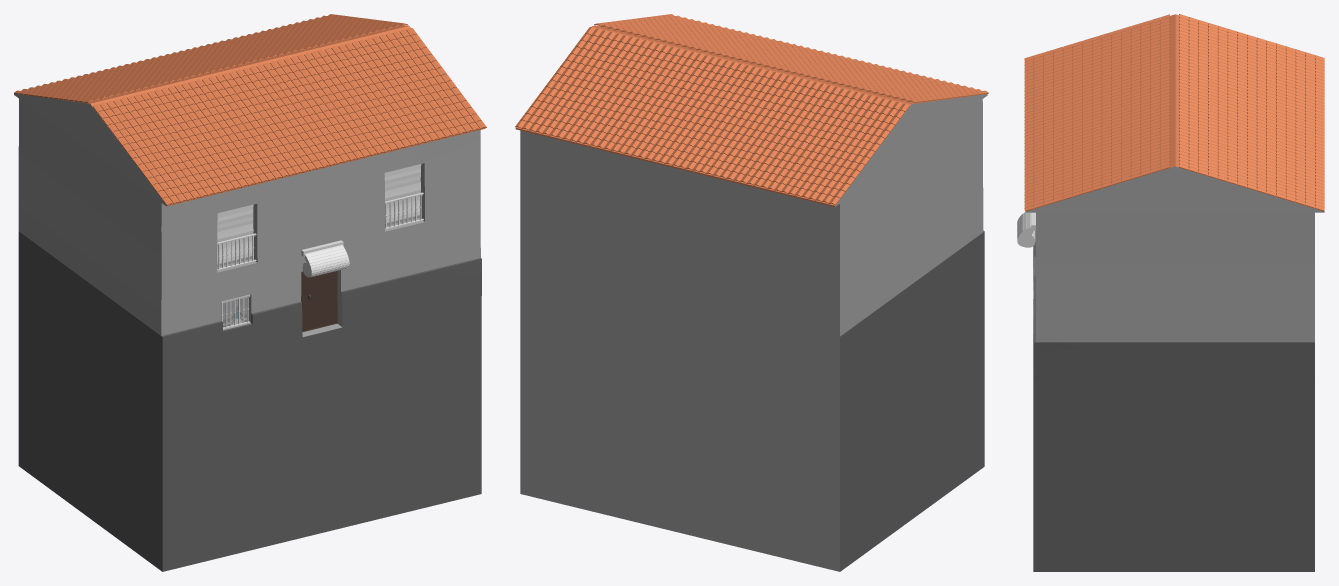
File: 8_Casa_Benarraba_Miguel_Cano.fbx
3 views of the same model, side by side, from view 1: azimuth 30°, elevation 25°; view 2: azimuth 150°, elevation 25°; view 3: azimuth 270°, elevation 25° (orthographic). The views are drawn at different scales.
Parts seen in each view (by area): view 1: Structure, Tejas_2.004, Door, Railing.002, Blind.002, Blind.001, Shadow; view 2: Structure, Tejas_2.004; view 3: Structure, Tejas_2.004, Shadow.
Boxes of the visible parts, x1,y1,x2,y2 form: Structure: [14, 25, 485, 571]; Tejas_2.004: [14, 14, 486, 205]; Door: [301, 271, 337, 332]; Railing.002: [217, 192, 423, 329]; Blind.002: [217, 204, 253, 267]; Blind.001: [384, 164, 421, 225]; Shadow: [302, 245, 349, 277]; Structure: [515, 25, 987, 571]; Tejas_2.004: [515, 14, 988, 205]; Structure: [1026, 14, 1324, 571]; Tejas_2.004: [1024, 14, 1324, 211]; Shadow: [1017, 212, 1035, 247].
Size of the model in its own units: 1179 by 1465 by 1003.
